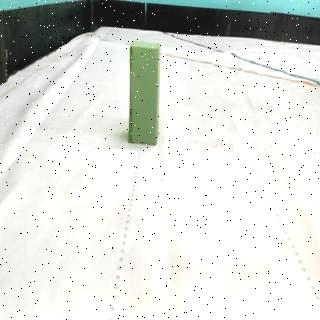greenbox: (127, 37, 162, 146)
